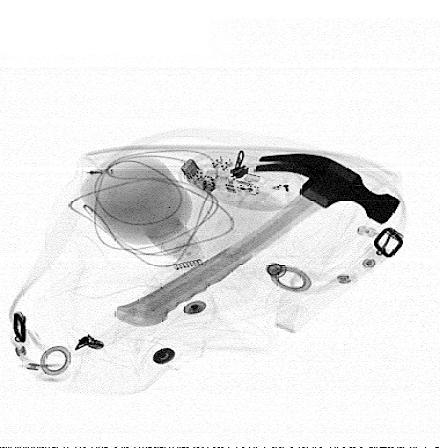Hammer: (115, 154, 401, 326)
